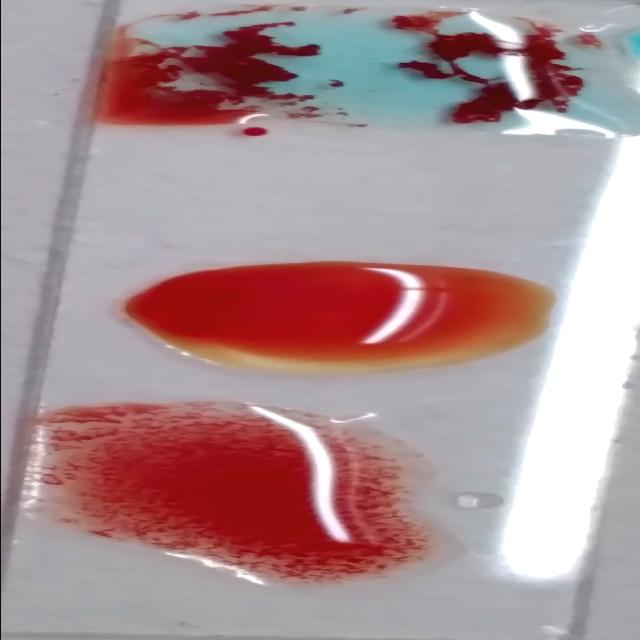A: (126, 7, 606, 132)
D: (38, 411, 420, 576)
